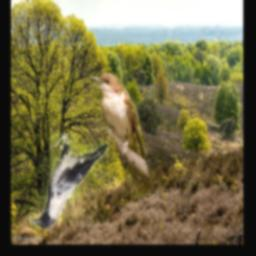Crow: (29, 134, 109, 229)
Cuckoo: (89, 69, 152, 196)
